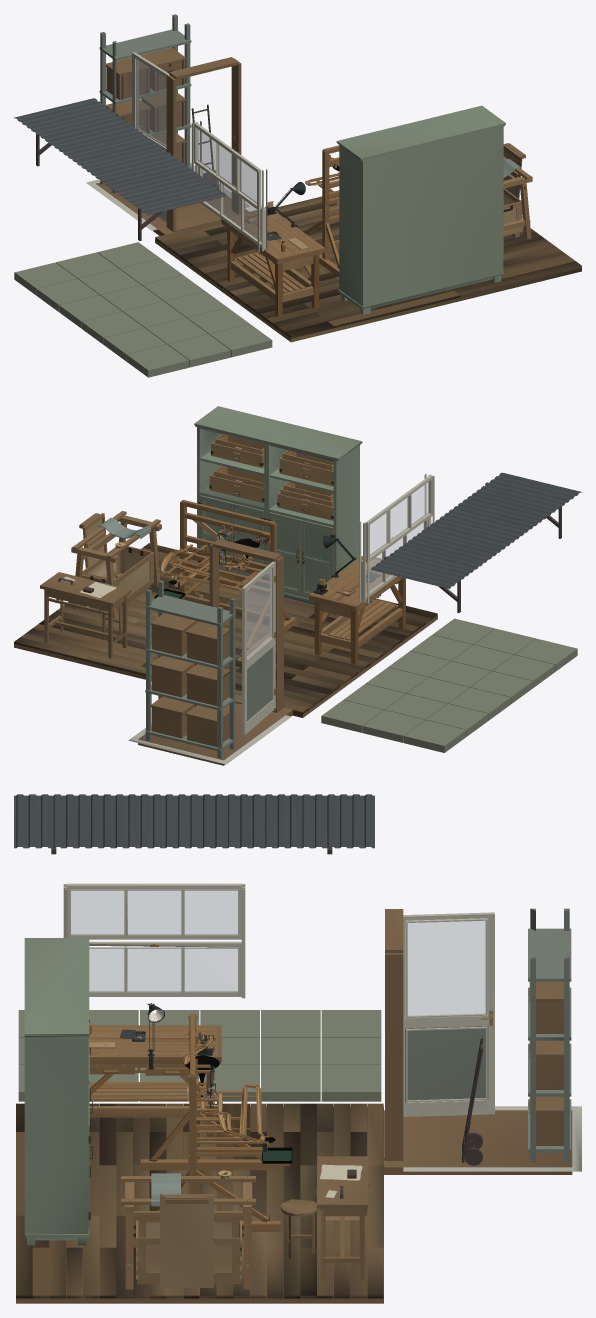
File: mini.glb
The picture shows the model from 3 angles, top to bottom: view 1: azimuth 30°, elevation 25°; view 2: azimuth 150°, elevation 25°; view 3: azimuth 270°, elevation 25°; orthographic projection. The views are drawn at different scales.
Visible parts, largest first — view 1: part/clockwork/angle_spacers, part/clockwork/arrest_pawl, part/room_door_store/door_glazing; view 2: part/clockwork/angle_spacers, part/clockwork/arrest_pawl, part/room_door_store/door_glazing, part/packing_kit/loose_green_grey_felt_cradle; view 3: part/clockwork/angle_spacers, part/clockwork/arrest_pawl, part/room_door_store/door_glazing, part/packing_kit/loose_green_grey_felt_cradle.
Part boxes in pixels (x1,y1,x2,y2): part/clockwork/angle_spacers: [96, 47, 581, 342]; part/clockwork/arrest_pawl: [14, 14, 531, 377]; part/room_door_store/door_glazing: [136, 59, 261, 241]; part/clockwork/angle_spacers: [14, 406, 437, 765]; part/clockwork/arrest_pawl: [58, 451, 581, 764]; part/room_door_store/door_glazing: [247, 482, 428, 658]; part/packing_kit/loose_green_grey_felt_cradle: [99, 518, 151, 539]; part/clockwork/angle_spacers: [16, 883, 572, 1303]; part/clockwork/arrest_pawl: [14, 794, 581, 1284]; part/room_door_store/door_glazing: [70, 890, 488, 1017]; part/packing_kit/loose_green_grey_felt_cradle: [151, 1173, 180, 1206].
Size of the model in its own units: 6.28 by 2.28 by 5.25.
5 materials, 5 textured.
